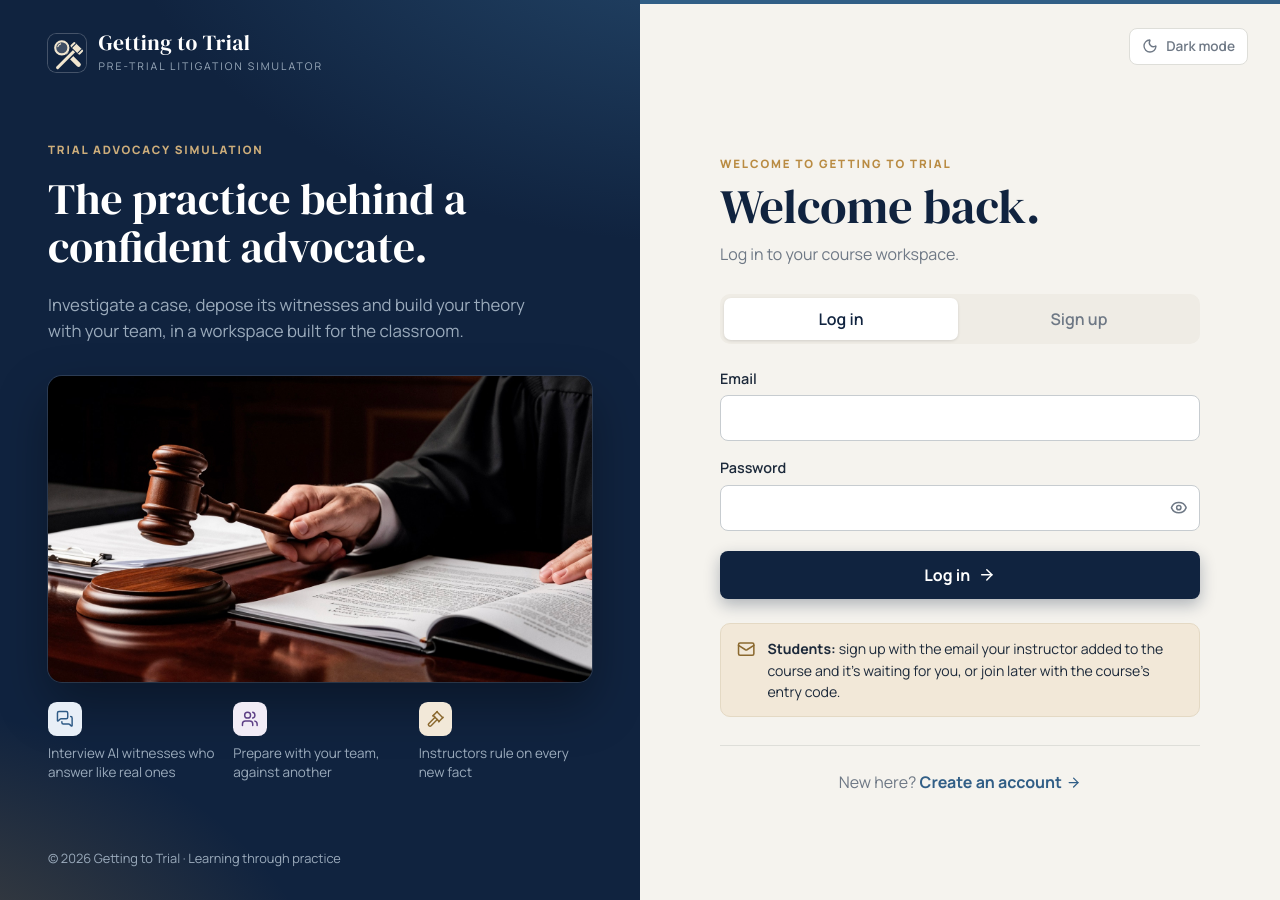
Test: log in › shows the server error for bad credentials
The width and height of the screenshot is (1280, 900).
expect the heading "Welcome back." is shown: met, box [720,173,1040,239]
Type "ada@example.com" into the field labelled "Email".
click(960, 418); type("ada@example.com")  # box [720,395,1200,442]
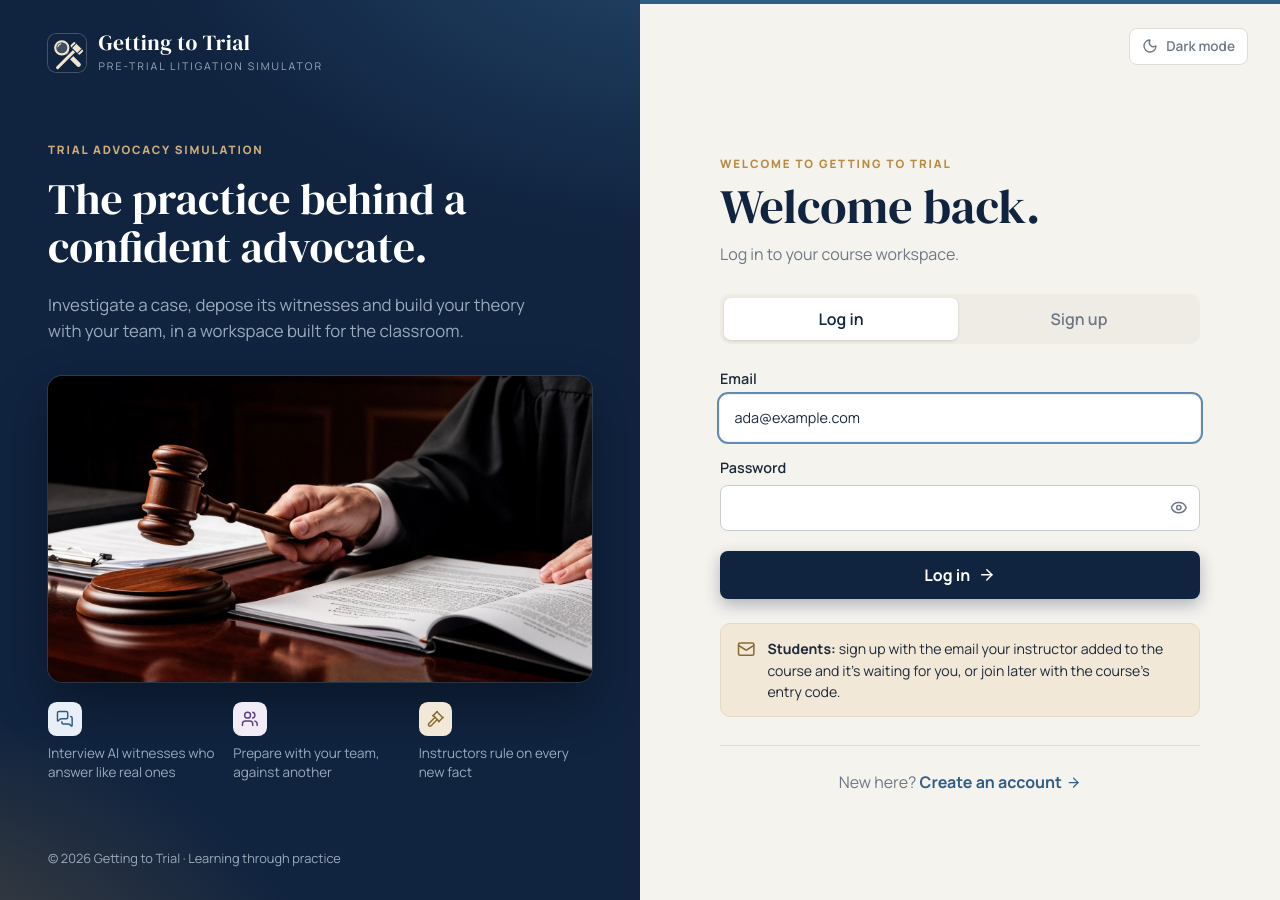
Type "wrong-password" into the password field labelled "Password".
click(960, 508); type("wrong-password")  # box [720,485,1200,531]
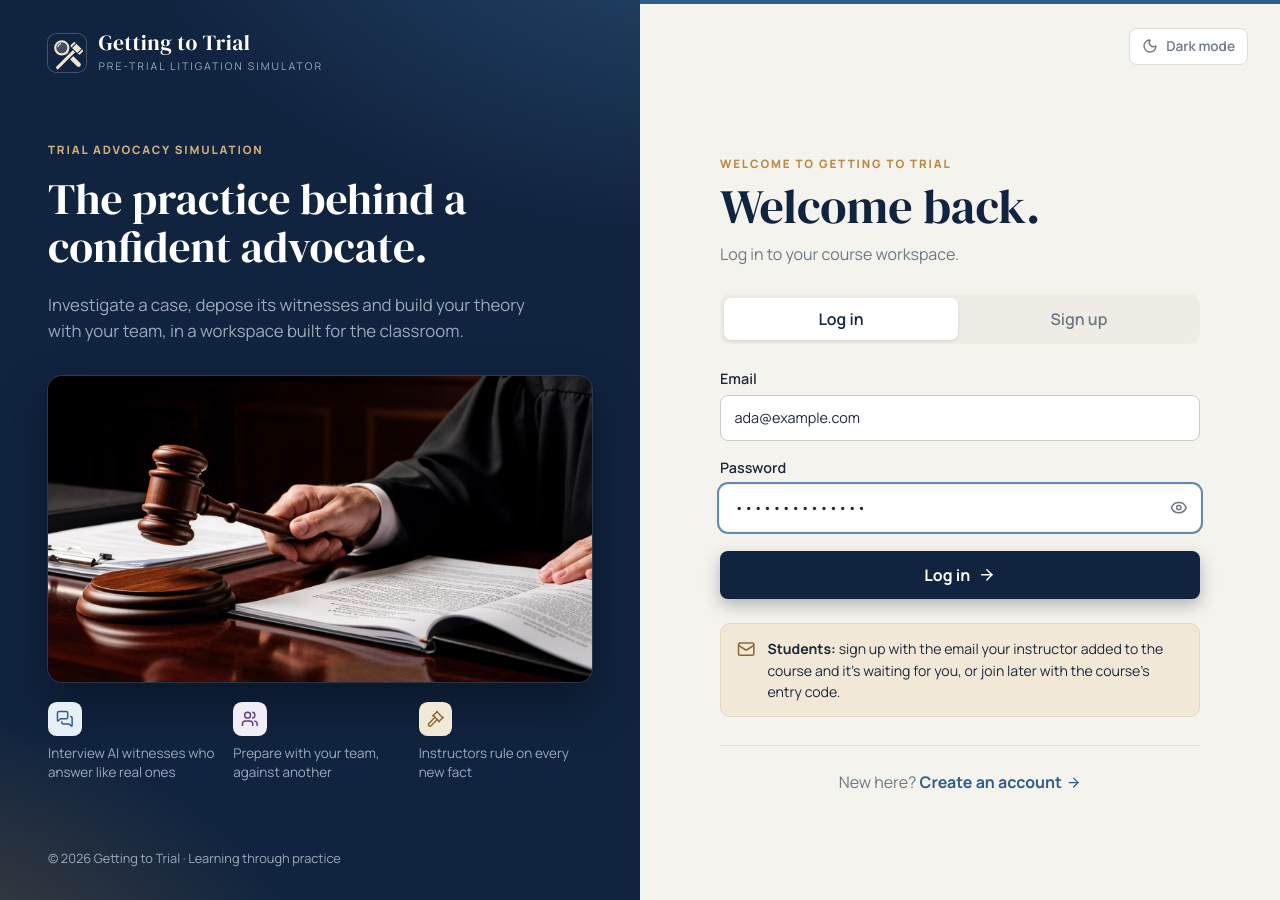
Click the button "Log in".
click(960, 575)  # box [720,551,1200,599]
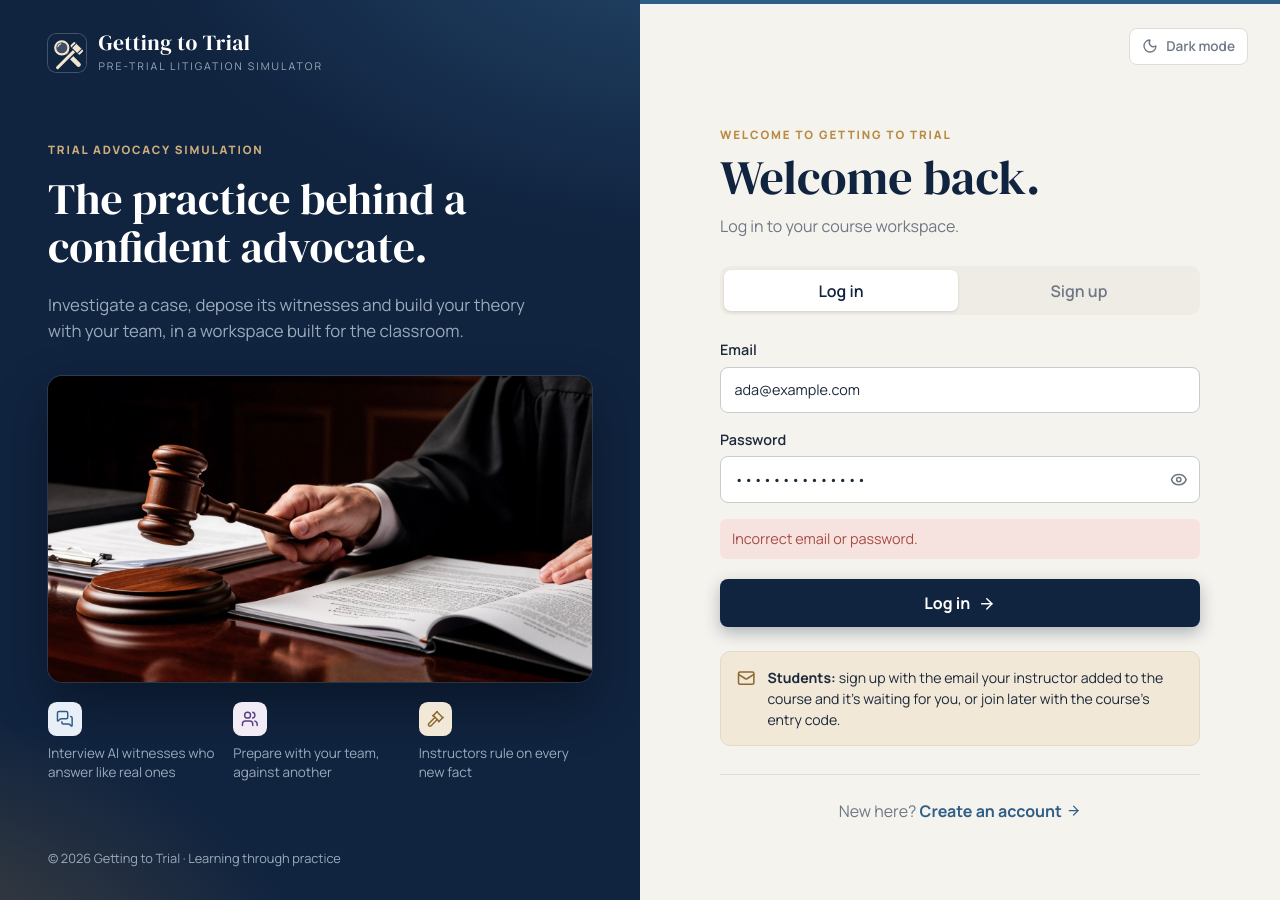
expect the message reads "Incorrect email or password.": met, box [732,529,918,548]
